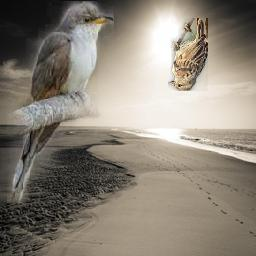Cuckoo: (8, 1, 115, 203)
Sparrow: (168, 19, 208, 92)
